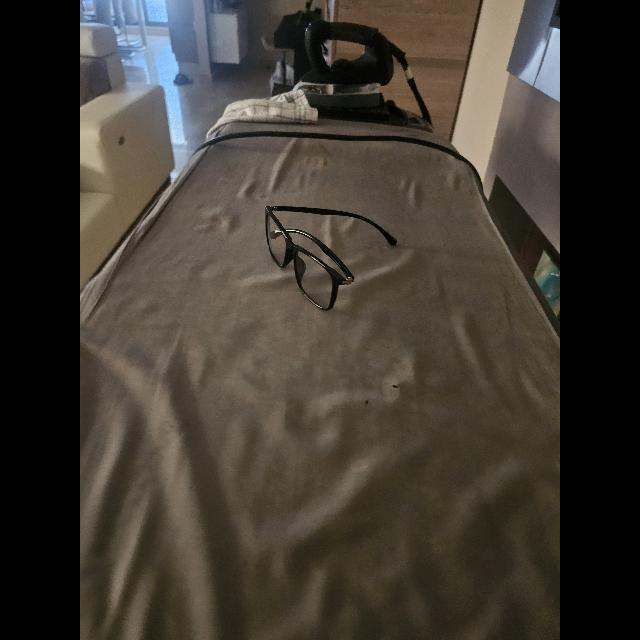glasses: (265, 206, 397, 310)
